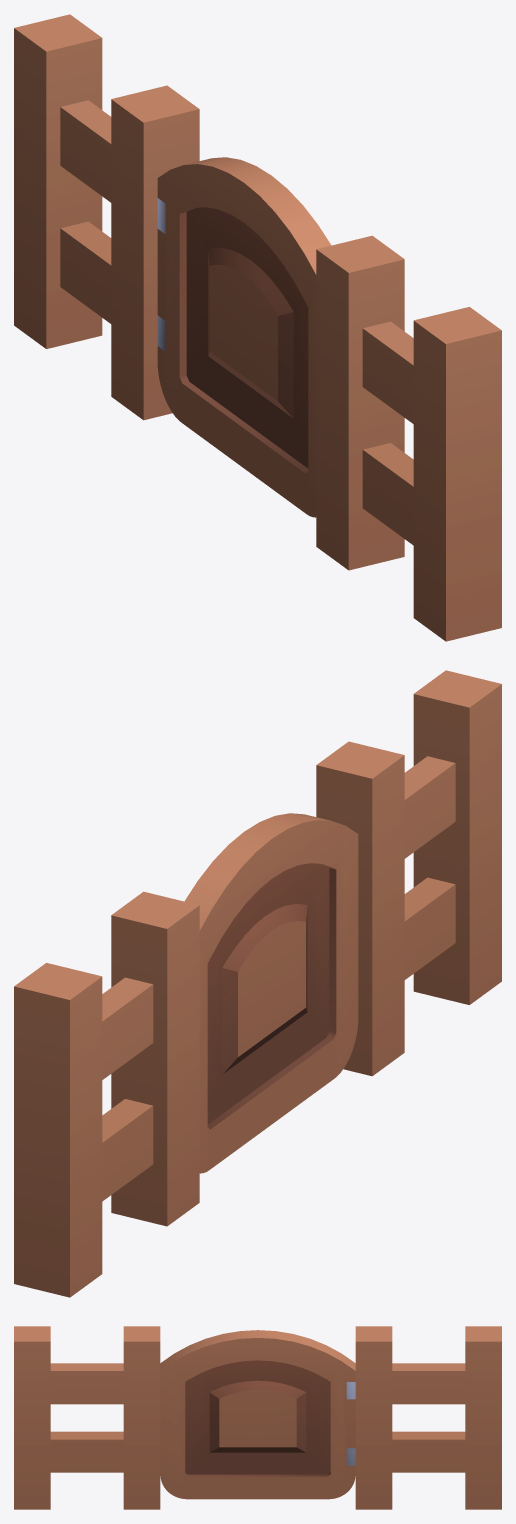
Rendered from grind.glb.
The picture shows the model from 3 angles, top to bottom: view 1: azimuth 30°, elevation 25°; view 2: azimuth 150°, elevation 25°; view 3: azimuth 270°, elevation 25°; orthographic projection. The views are drawn at different scales.
Visible parts, largest first — view 1: fence-gate, gate; view 2: fence-gate, gate; view 3: fence-gate, gate.
Part boxes in pixels (x1,y1,x2,y2): fence-gate: (14,14,501,641); gate: (157,157,331,517); fence-gate: (14,670,501,1297); gate: (184,813,358,1173); fence-gate: (14,1326,501,1509); gate: (160,1330,355,1499).
Size of the model in its own units: 0.075 by 0.38 by 1.
Materials: 1 (1 with a texture image).
